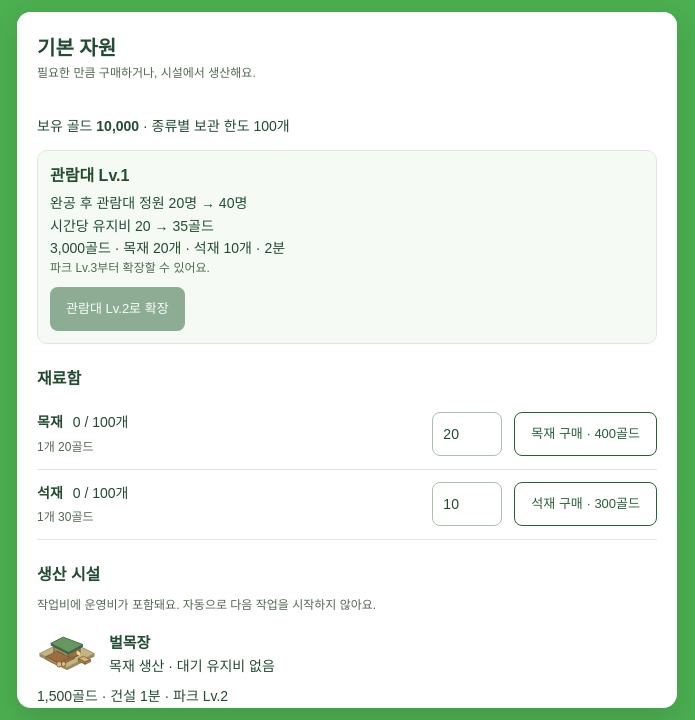
early ordinary resource panel › buys the selected exact units after cancelling older reads
Replace the text in the 1st number field named "목재 구매 수량" with "2" at (467,434), box 432,412 -> 502,456
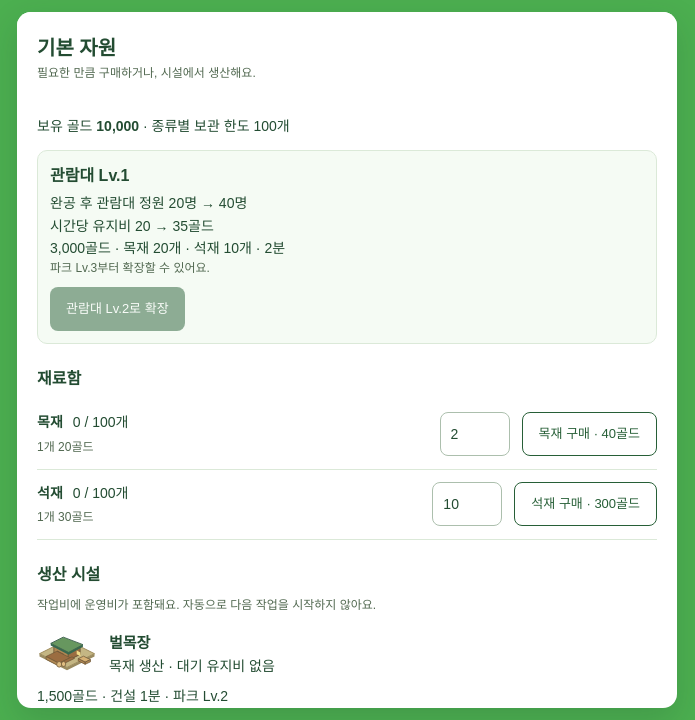
Click the button "목재 구매 · 40골드" at (589,434), box 522,412 -> 657,456
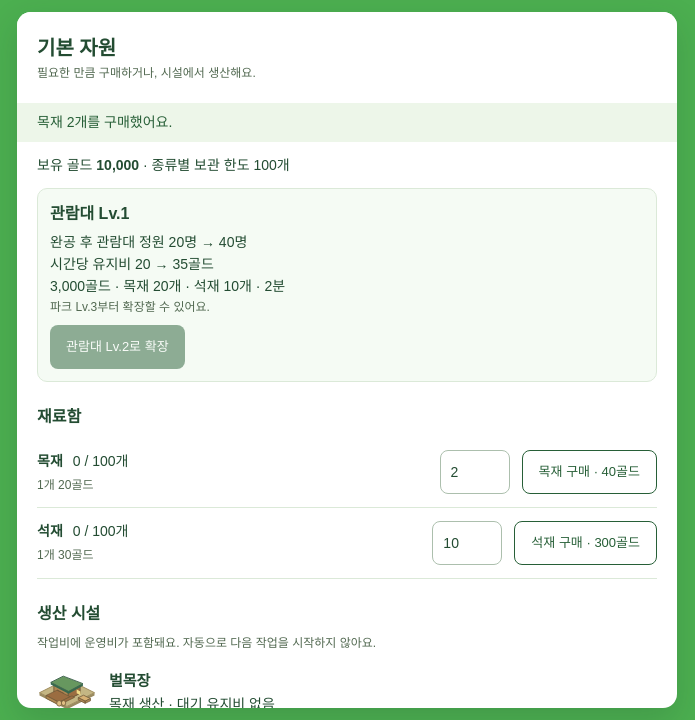
Expected: the message reads "목재 2개를 구매했어요.", 37,114 -> 172,130
